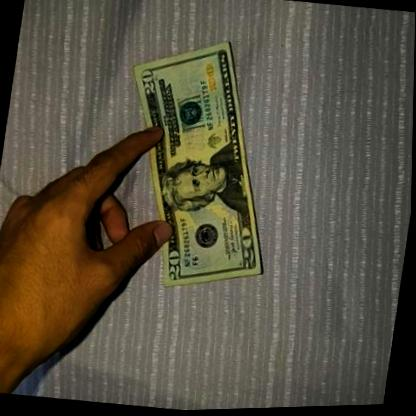twenty-front: (101, 30, 296, 301)
